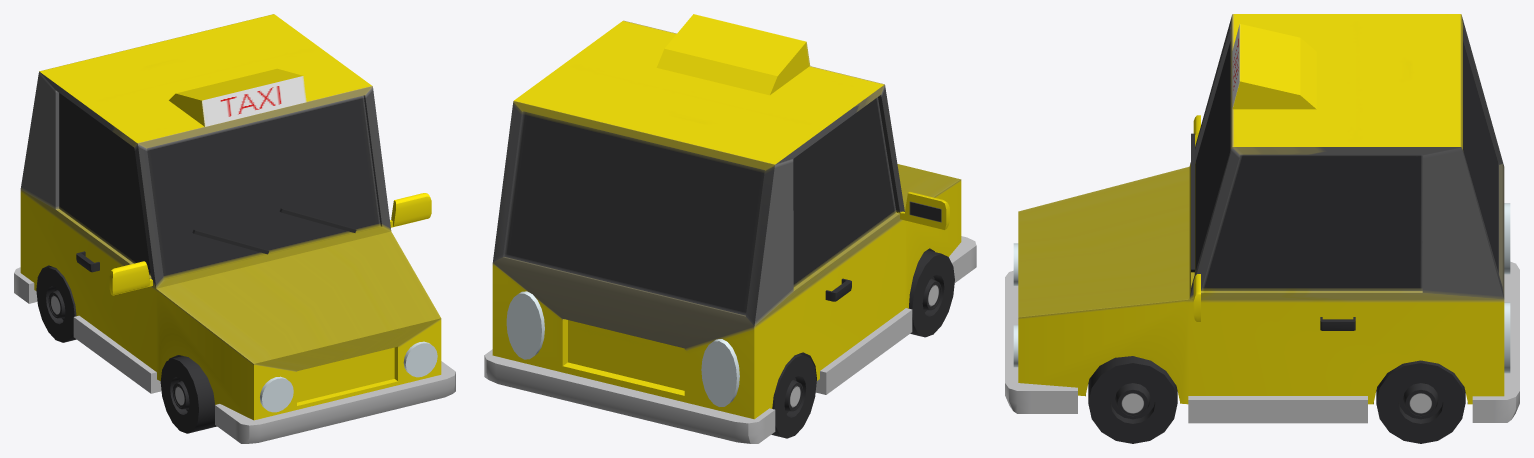
The model's file is taxi.fbx.
3 renders of one model, left to right at view 1: azimuth 30°, elevation 25°; view 2: azimuth 150°, elevation 25°; view 3: azimuth 270°, elevation 25°, orthographic. The views are drawn at different scales.
Parts seen in each view (by area): view 1: polySurface21; view 2: polySurface21; view 3: polySurface21.
Boxes of the visible parts, box(x1,y1,x2,y2) form: polySurface21: box(14, 14, 455, 443); polySurface21: box(484, 14, 976, 443); polySurface21: box(1005, 14, 1519, 443).
Bounding box in the file's own units: 43.83 × 36.79 × 52.82.
